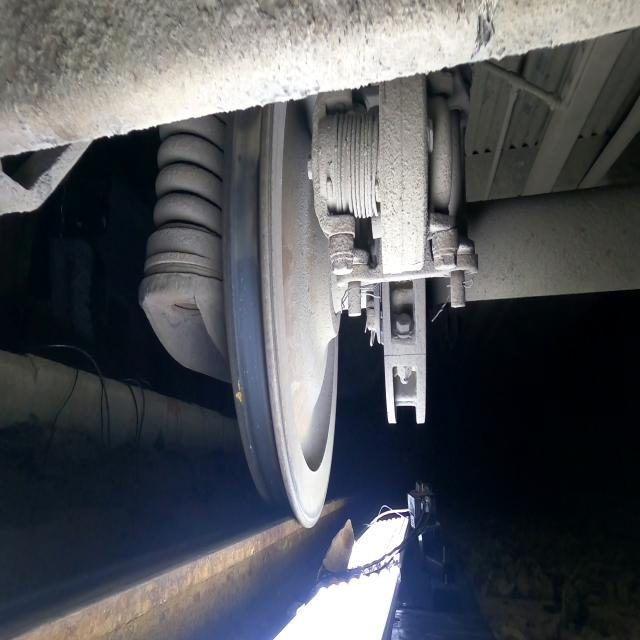Cracks-Scratches: (236, 377, 243, 407)
Shelling: (232, 112, 261, 264)
Wheel: (222, 102, 340, 527)
